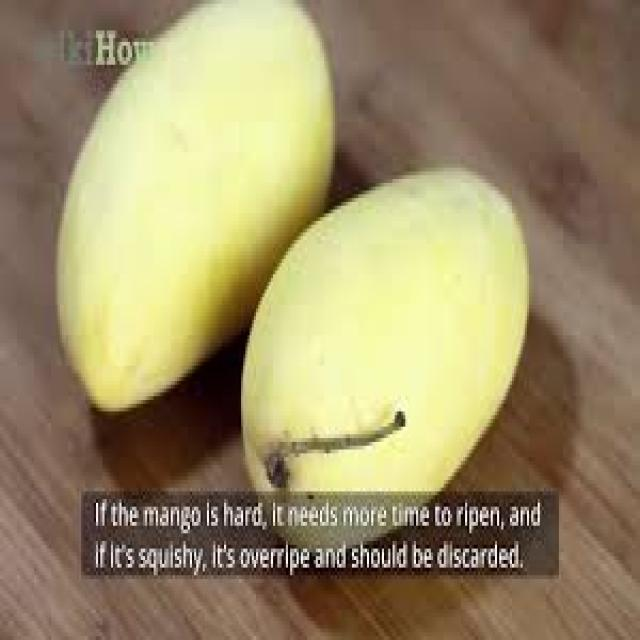mango: (239, 168, 531, 499)
